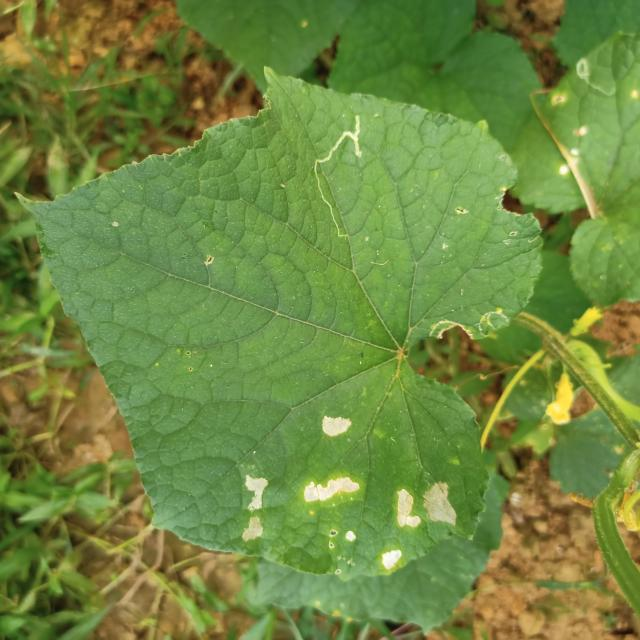disease_cucumber: (296, 472, 462, 574), (239, 470, 272, 544), (318, 408, 358, 446)
